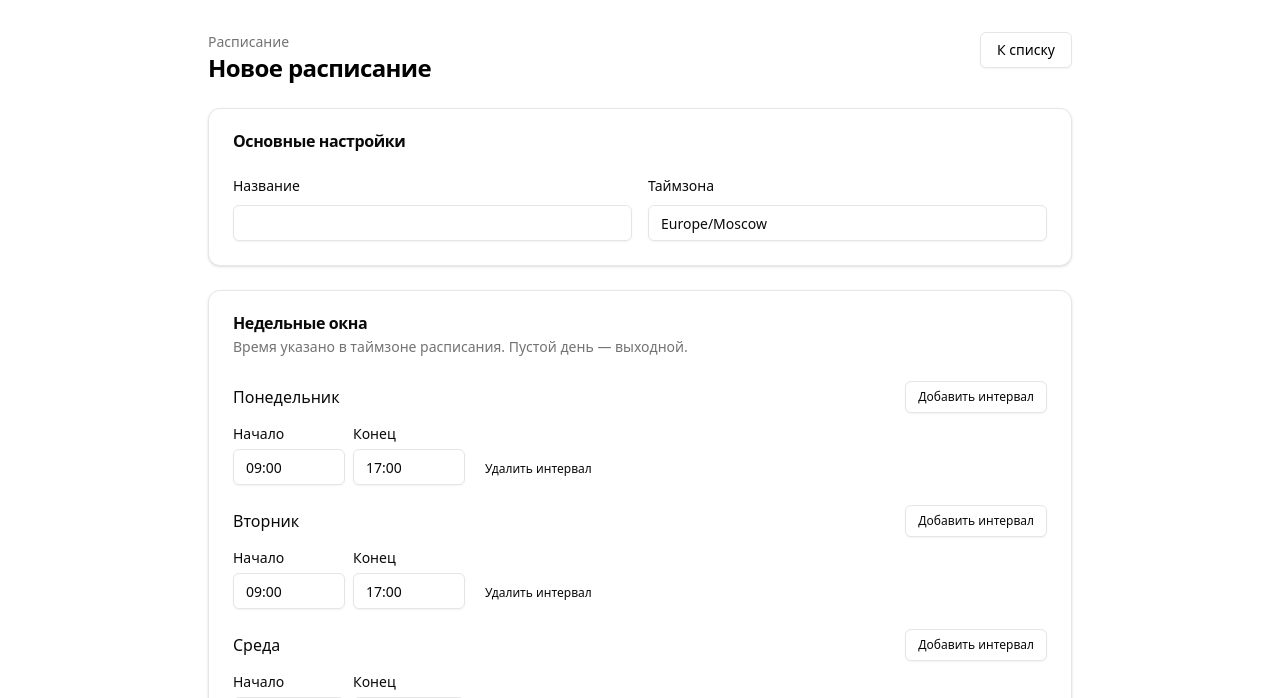
Test: AvailabilityEditorPage › shows a field-level error returned by the API
Type "Рабочие часы" into the field labelled "Название" at {"x": 432, "y": 223}, box [233,205,632,241]
(page scrolled)
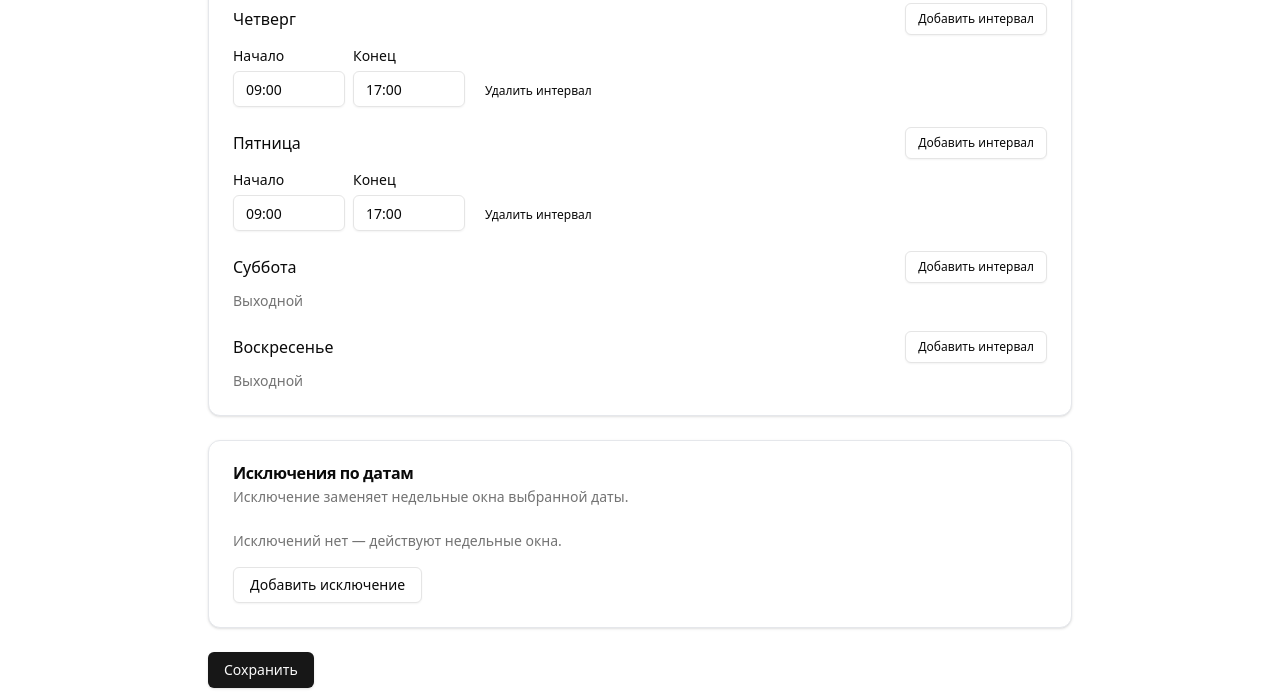
Click the button "Сохранить" at {"x": 261, "y": 670}, box [208,652,314,688]
(page scrolled)
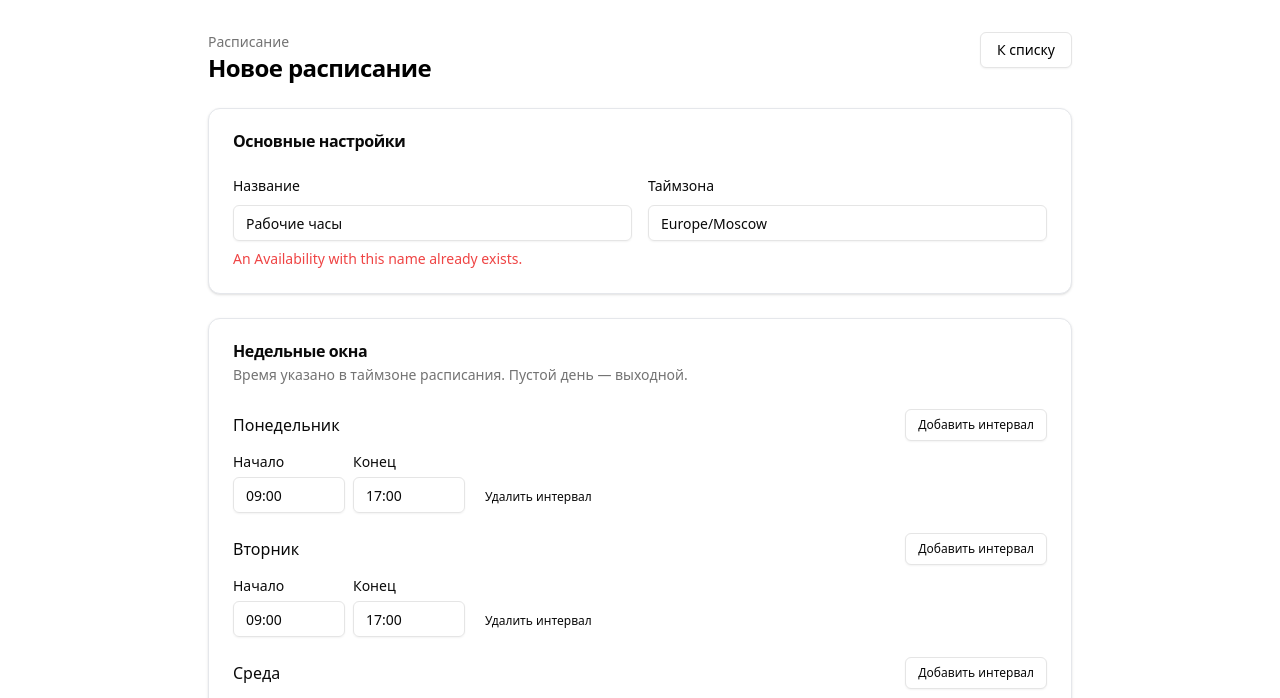
Expected: the text "An Availability with this name already exists." is shown, [233,249,522,268]
